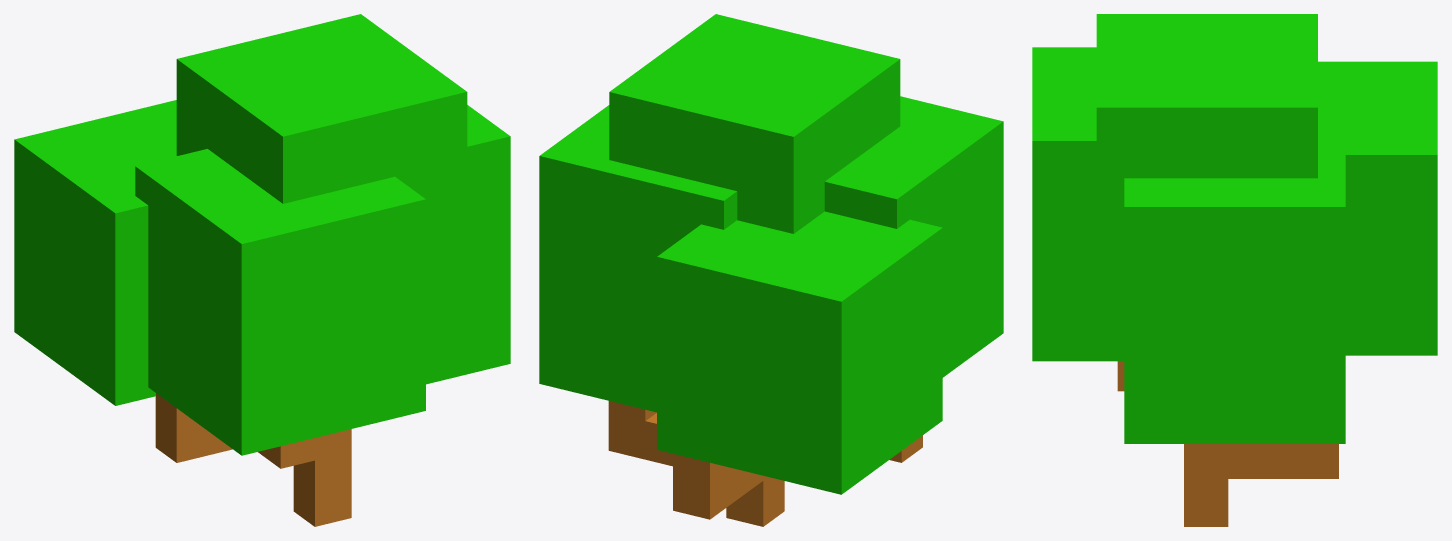
Rendered from bush2.fbx.
3 views of the same model, side by side, from view 1: azimuth 30°, elevation 25°; view 2: azimuth 150°, elevation 25°; view 3: azimuth 270°, elevation 25° (orthographic). The views are drawn at different scales.
Parts seen in each view (by area): view 1: bush2; view 2: bush2; view 3: bush2.
Part boxes in pixels (x1,y1,x2,y2): bush2: (14,14,510,526); bush2: (539,14,1003,526); bush2: (1032,14,1437,526).
Bounding box in the file's own units: 188 × 228 × 183.
